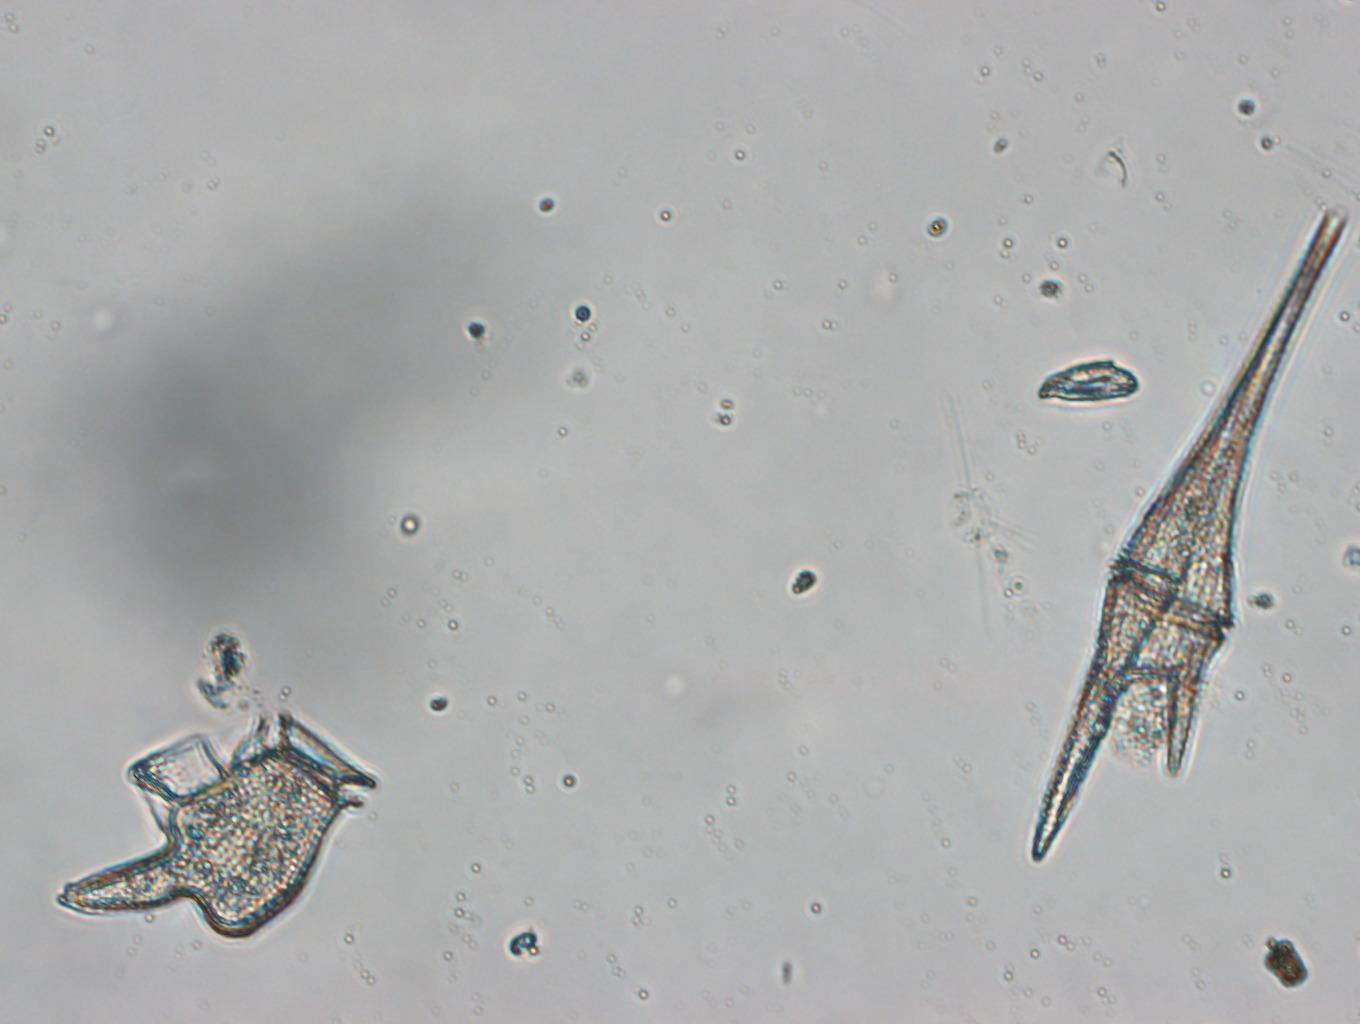ceratium furca: (1028, 202, 1348, 865)
dinophysis caudata: (53, 707, 378, 943)
